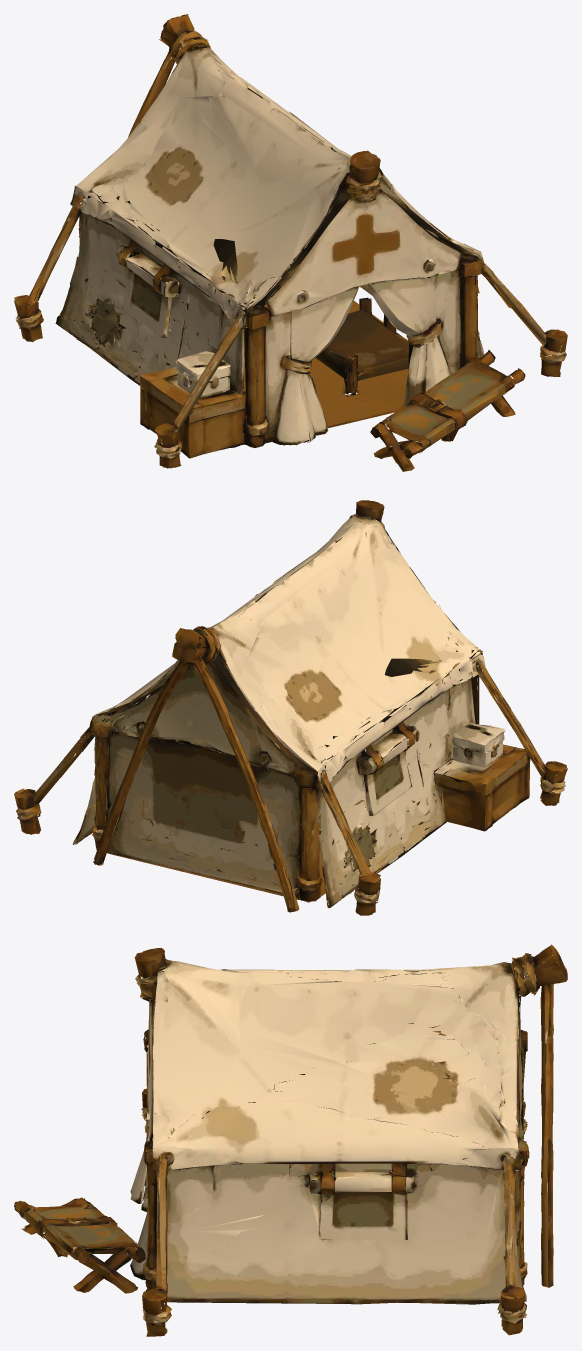
Rendered from medical_tent_realtime.glb.
3 renders of one model, top to bottom at view 1: azimuth 30°, elevation 25°; view 2: azimuth 150°, elevation 25°; view 3: azimuth 270°, elevation 25°, orthographic. The views are drawn at different scales.
Visible parts, largest first — view 1: tent; view 2: tent; view 3: tent.
Part boxes in pixels (x1,y1,x2,y2): tent: (14,14,567,471); tent: (14,500,567,915); tent: (14,944,567,1336).
Bounding box in the file's own units: 2.2 × 1.42 × 2.4.
Materials: 1 (1 with a texture image).
